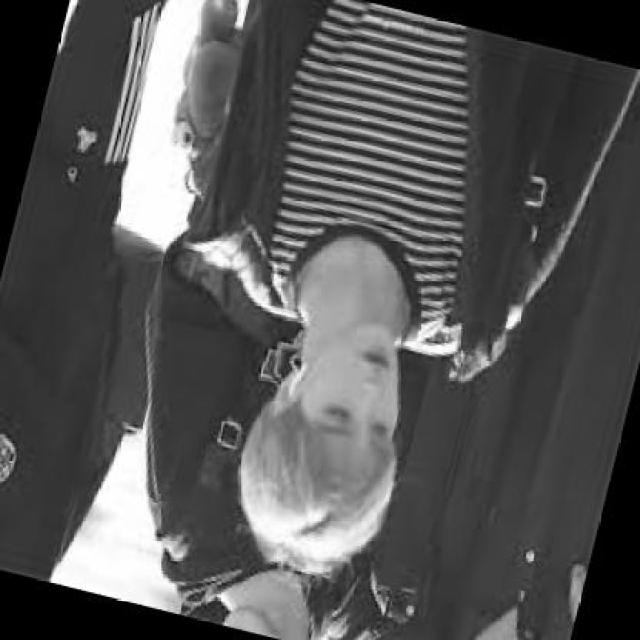earphone: (272, 357, 301, 385)
